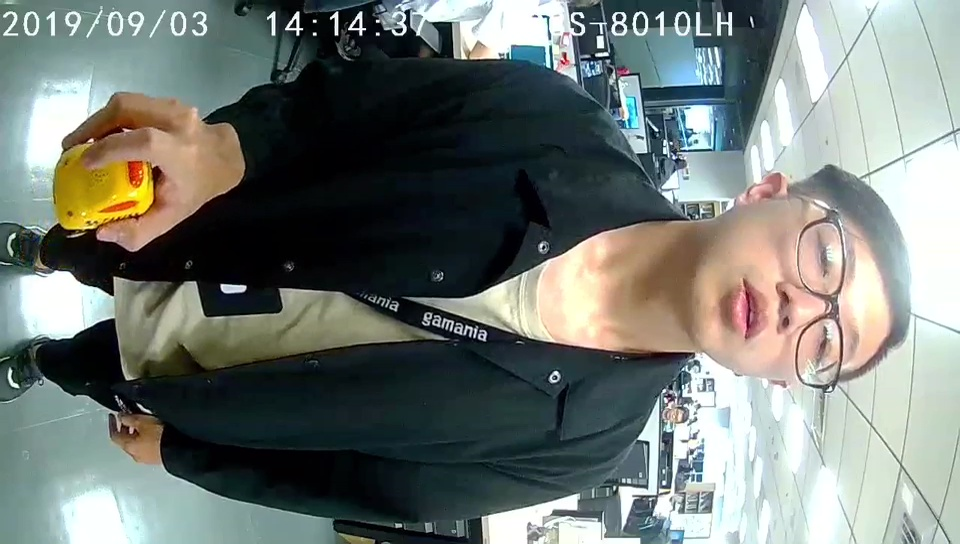car: (52, 143, 156, 233)
